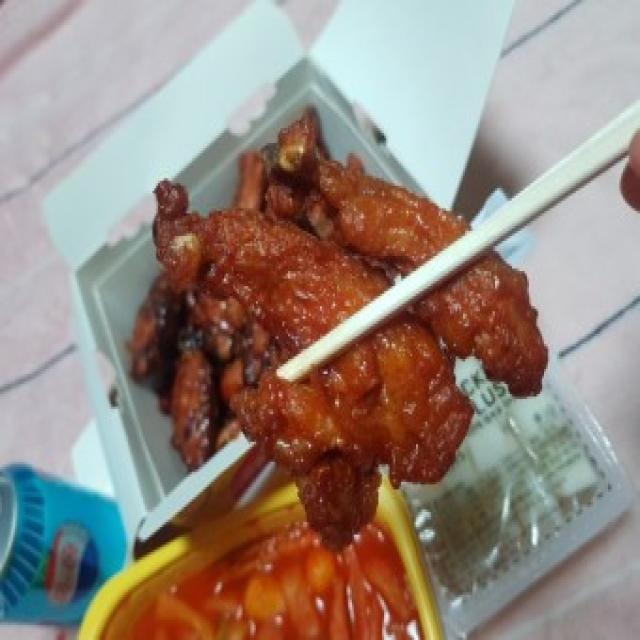Frango: (117, 128, 542, 546)
